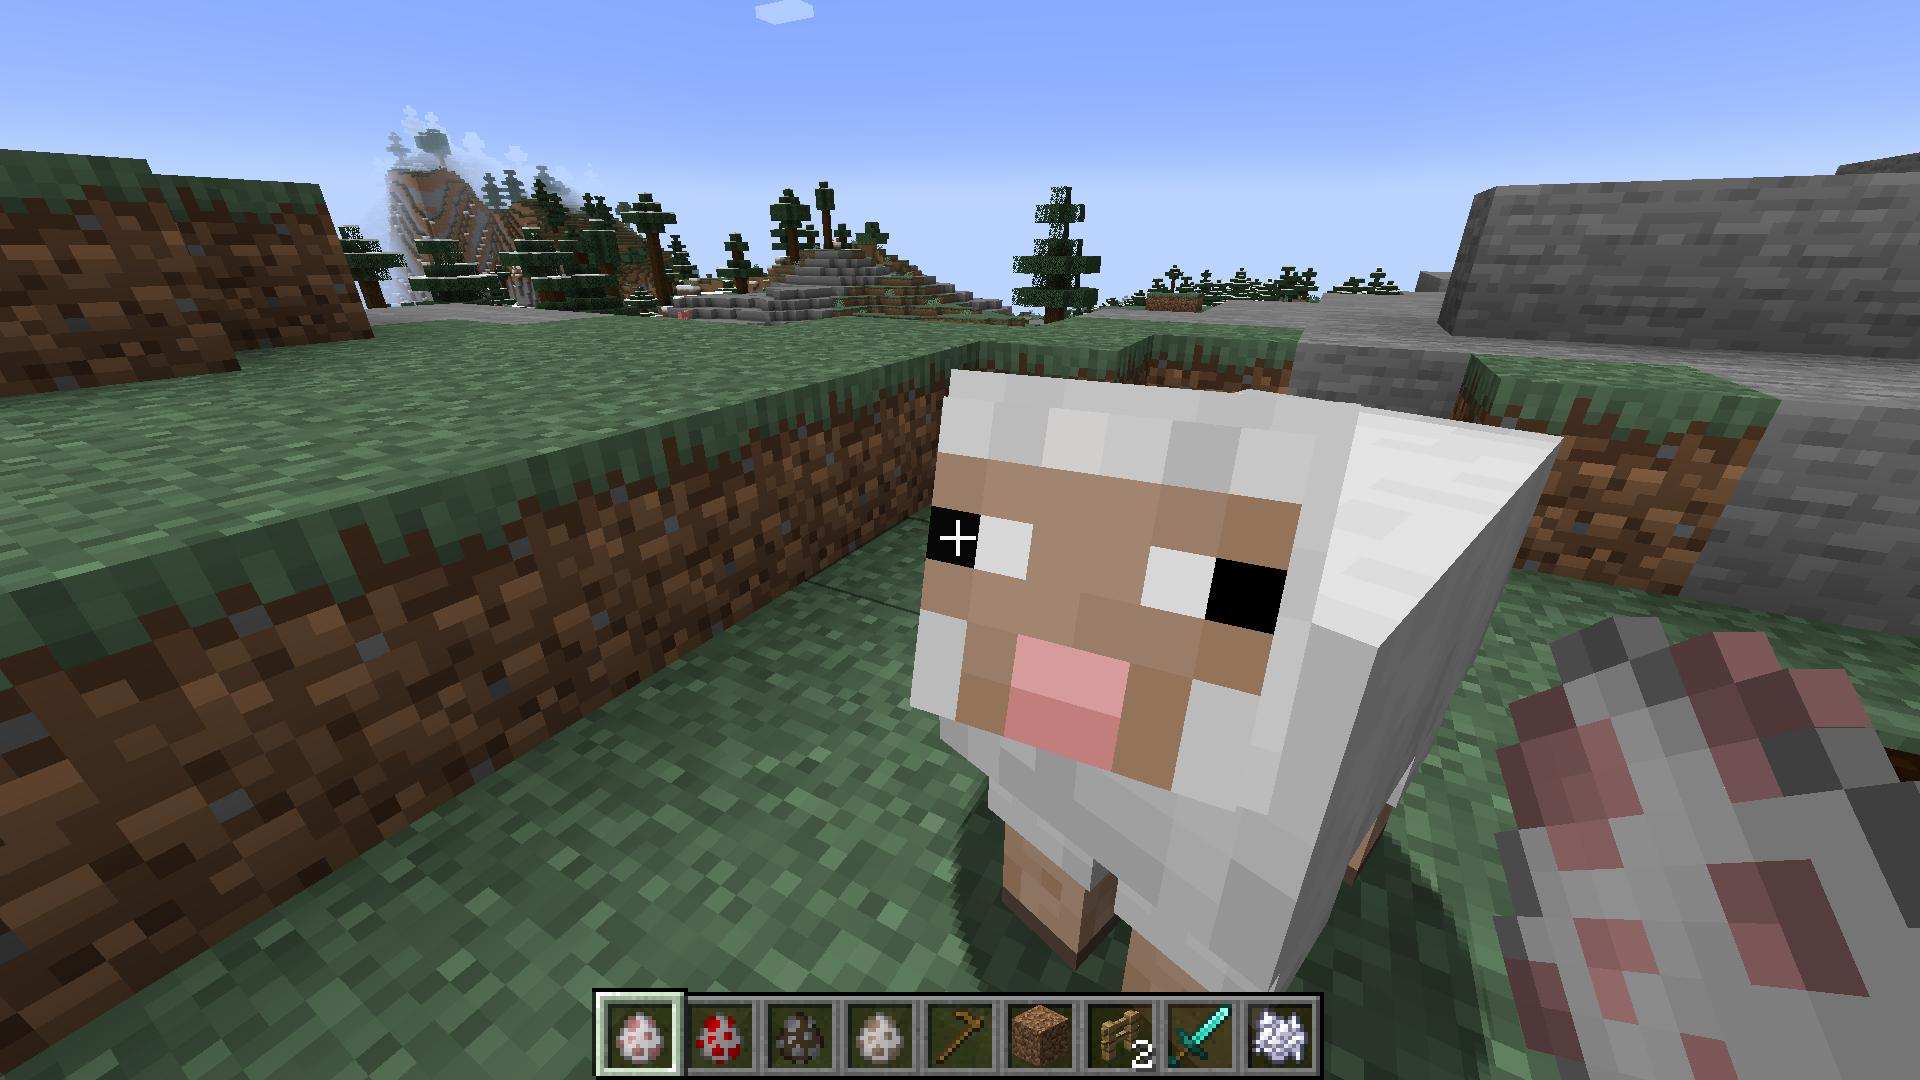sheep: (903, 357, 1565, 988)
